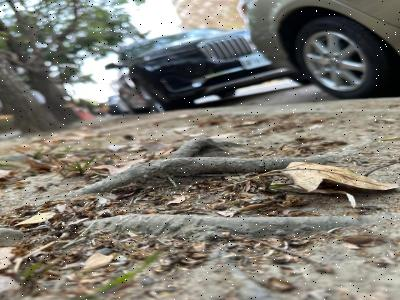Root: (63, 137, 346, 198), (88, 214, 386, 238), (0, 229, 22, 245)
